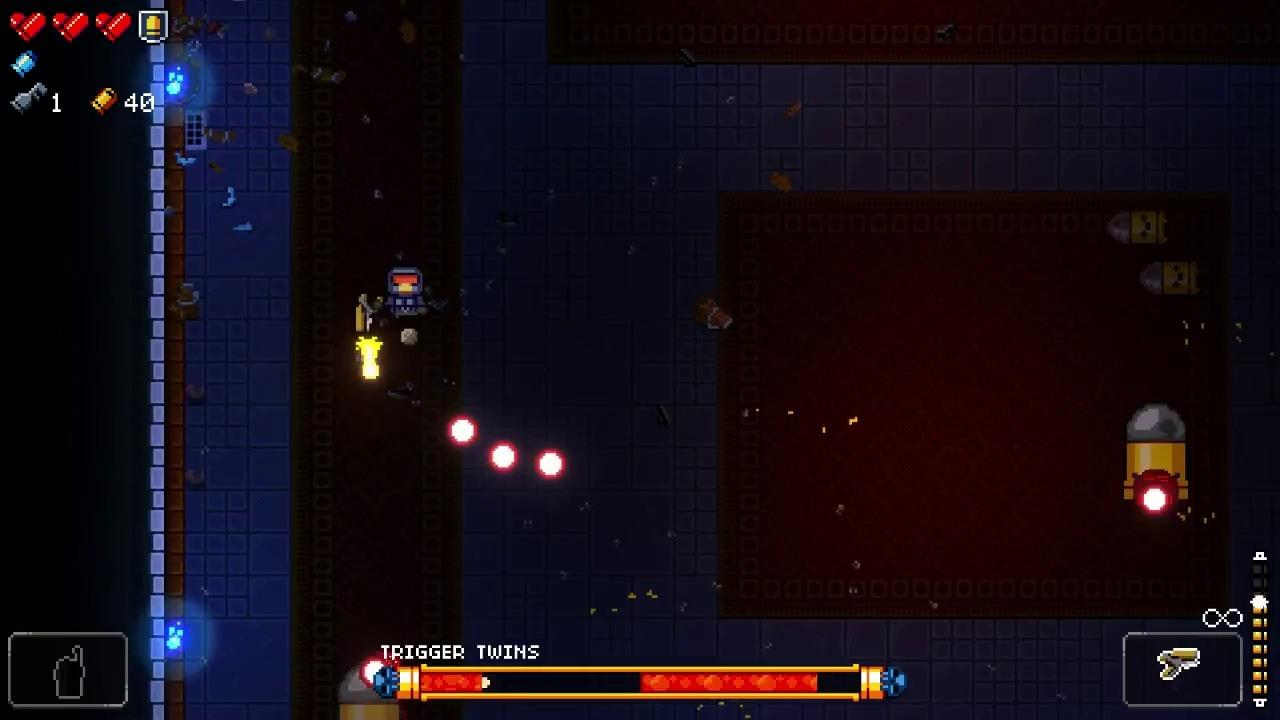boss_smiley: (1123, 406, 1191, 502)
bullet: (535, 451, 567, 481), (449, 416, 478, 448), (489, 442, 518, 471), (1139, 486, 1170, 513)
dead_bullet_kin: (1103, 211, 1169, 247), (1138, 261, 1201, 298)
player: (385, 267, 424, 318)
